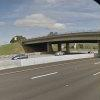Bridge: (17, 29, 97, 55)
